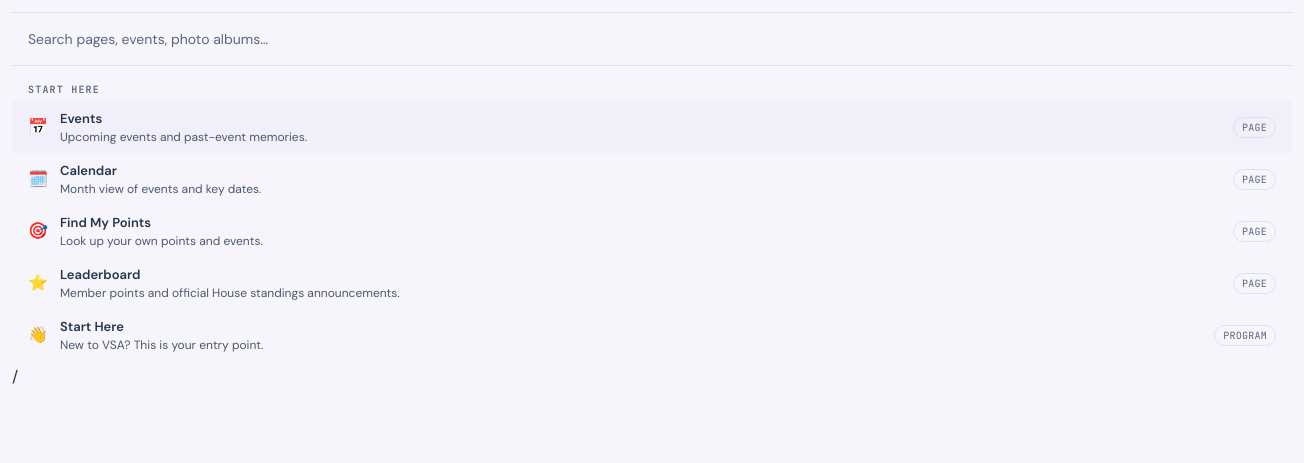
Test: PublicSearchPanel (dialog variant) › shows results grouped by type and distinguishes the House program from the House Reveal event and album
Type "house" into the dropdown at [652, 39], box [12, 12, 1292, 66]
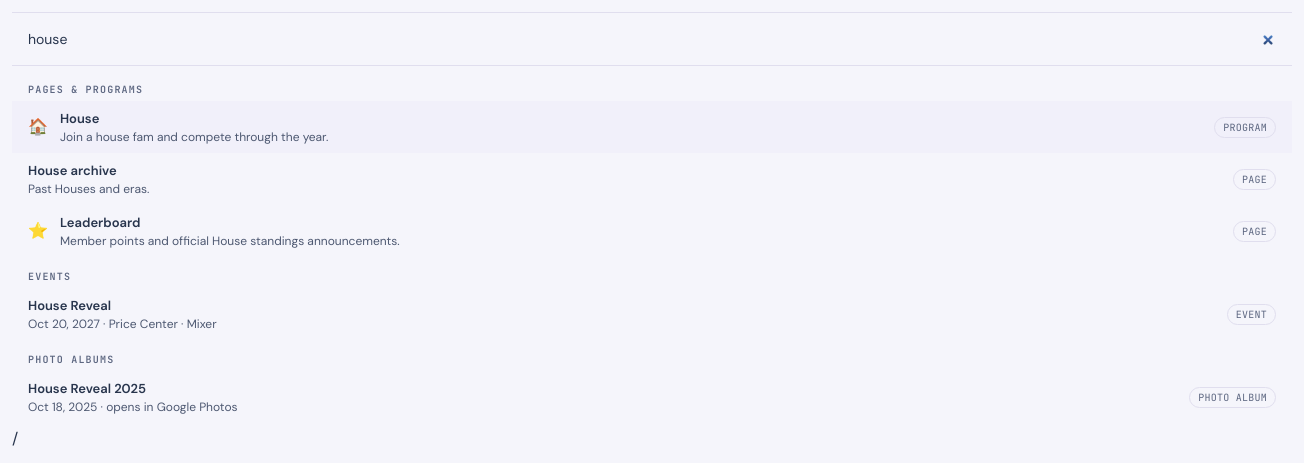
Check: the text "Program" is shown, box [1214, 116, 1276, 138]
Check: the option "House Reveal 2025" shows "opens in Google Photos", box [12, 371, 1292, 423]
